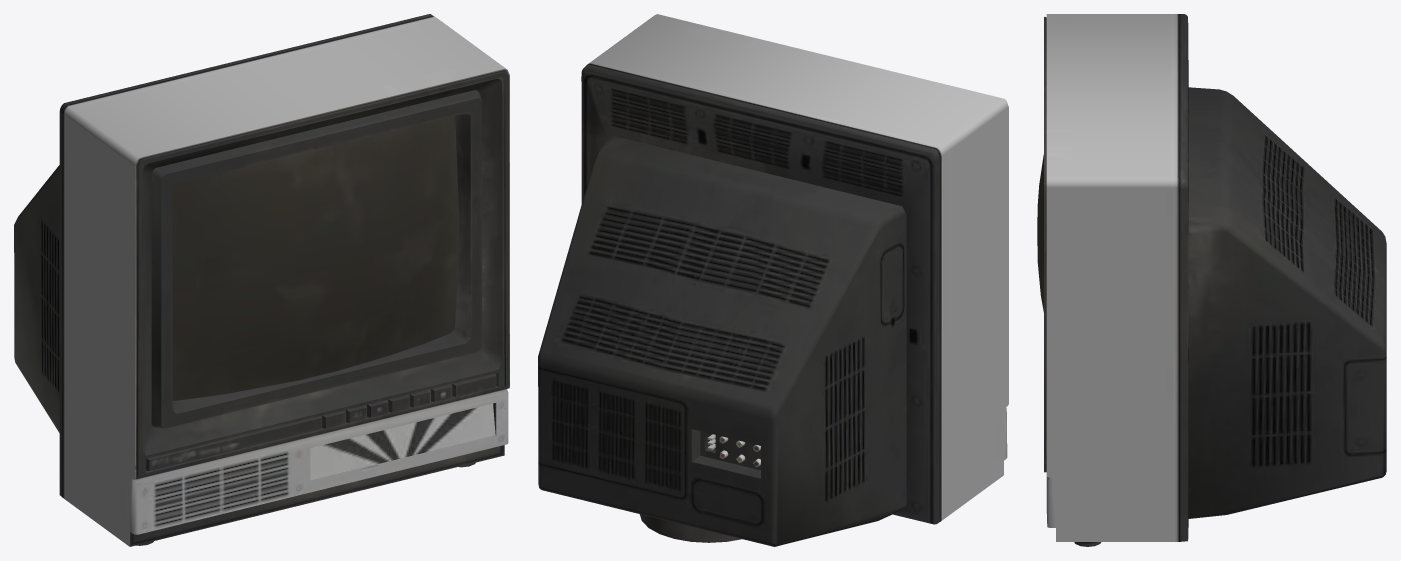
Rendered from television_02.glb.
3 renders of one model, left to right at view 1: azimuth 30°, elevation 25°; view 2: azimuth 150°, elevation 25°; view 3: azimuth 270°, elevation 25°, orthographic. The views are drawn at different scales.
Visible parts, largest first — view 1: television_02; view 2: television_02; view 3: television_02.
Boxes of the visible parts, x1=… form: television_02: x1=14, y1=14, x2=509, y2=546; television_02: x1=538, y1=14, x2=1008, y2=546; television_02: x1=1037, y1=14, x2=1386, y2=546.
Size of the model in its own units: 0.3997 by 0.4108 by 0.3495.
Materials: 1 (1 with a texture image).
